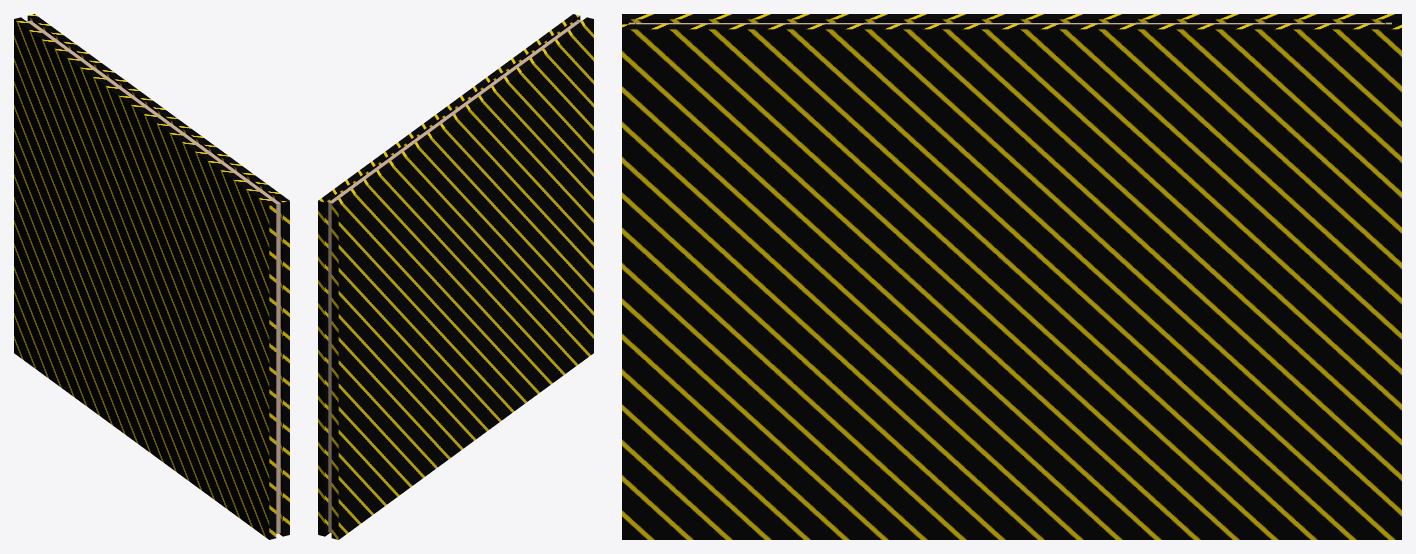
The model's file is WALLSET_H.FBX.
3 renders of one model, left to right at view 1: azimuth 30°, elevation 25°; view 2: azimuth 150°, elevation 25°; view 3: azimuth 270°, elevation 25°, orthographic. The views are drawn at different scales.
Visible parts, largest first — view 1: SELECTOR_15, FRAME_118; view 2: SELECTOR_15, FRAME_118; view 3: SELECTOR_15, FRAME_118.
Part boxes in pixels (<box>): SELECTOR_15: <box>14,14,289,539</box>; FRAME_118: <box>27,20,280,533</box>; SELECTOR_15: <box>318,14,593,539</box>; FRAME_118: <box>328,19,581,532</box>; SELECTOR_15: <box>622,14,1401,539</box>; FRAME_118: <box>628,22,1391,24</box>.
Bounding box in the file's own units: 5.88 × 90.28 × 125.
